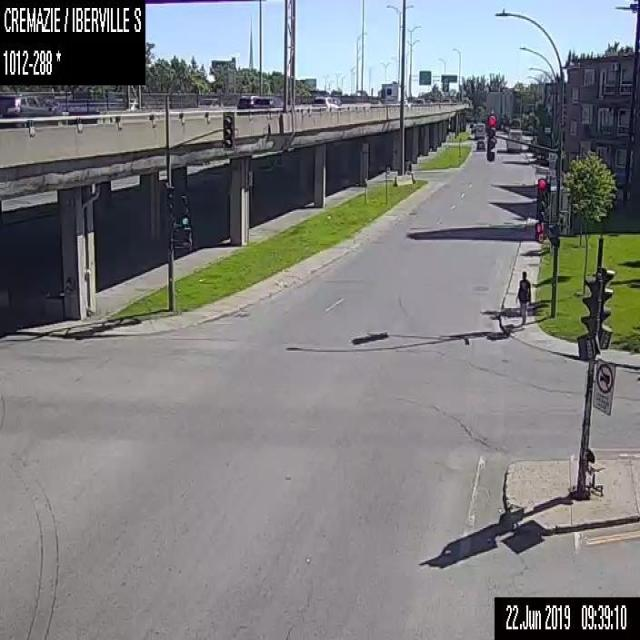bus: (474, 121, 484, 139)
pedestrian: (514, 269, 531, 324)
vehicle: (0, 89, 63, 127), (251, 95, 284, 114), (384, 82, 408, 105), (235, 94, 258, 114), (311, 95, 343, 109), (505, 127, 521, 151), (197, 96, 223, 107), (355, 89, 367, 99), (414, 97, 426, 106), (475, 140, 485, 149), (470, 125, 475, 134), (425, 99, 432, 105), (468, 122, 472, 127)
